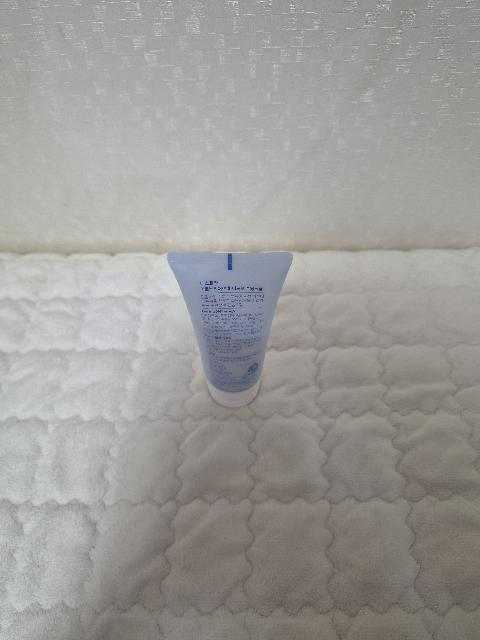handcream: (167, 252, 293, 407)
